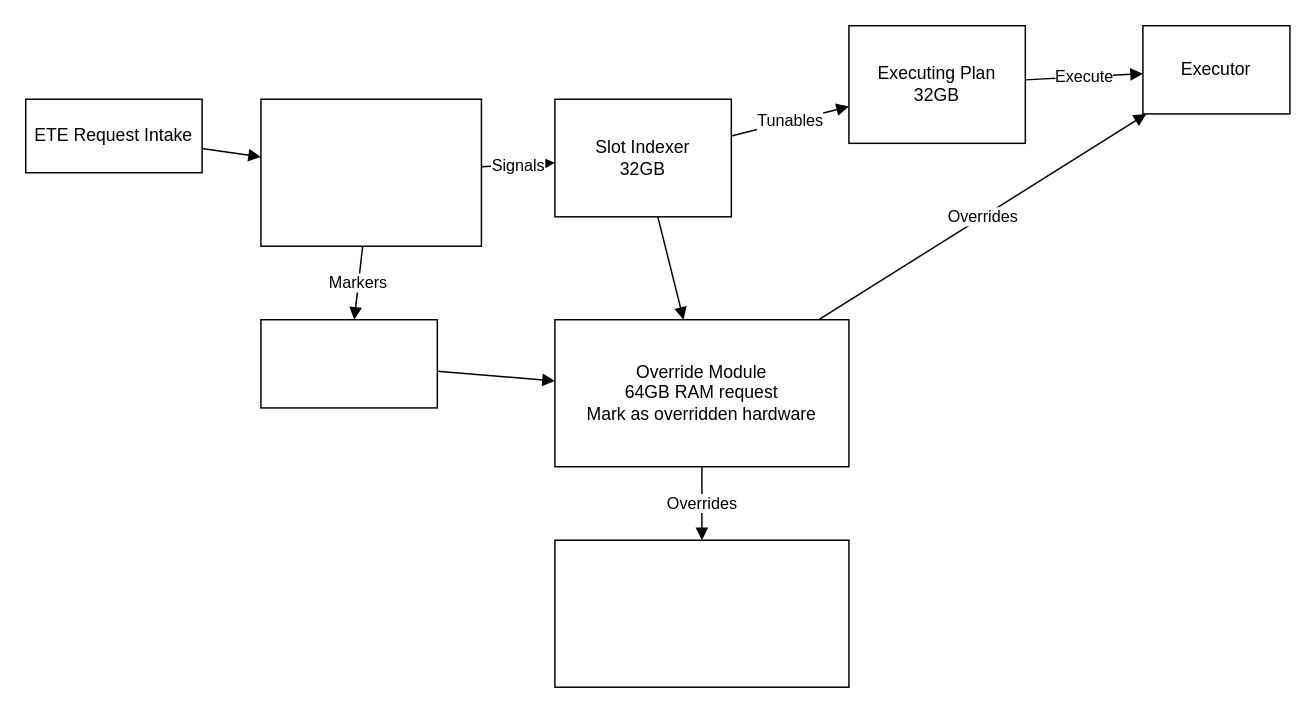
This 1316x713 diagram has some shape labels left out. The shapes that lost their labels are listed below. From the top down, each one's centre as x and y in pixels, then its label:
point 370,172: Signal Collectors • Identity • Approval • Telemetry • Context
point 348,363: Marker Synthesizer
point 701,613: Drift & Conflict Manager 64GB RAM Base Plan
